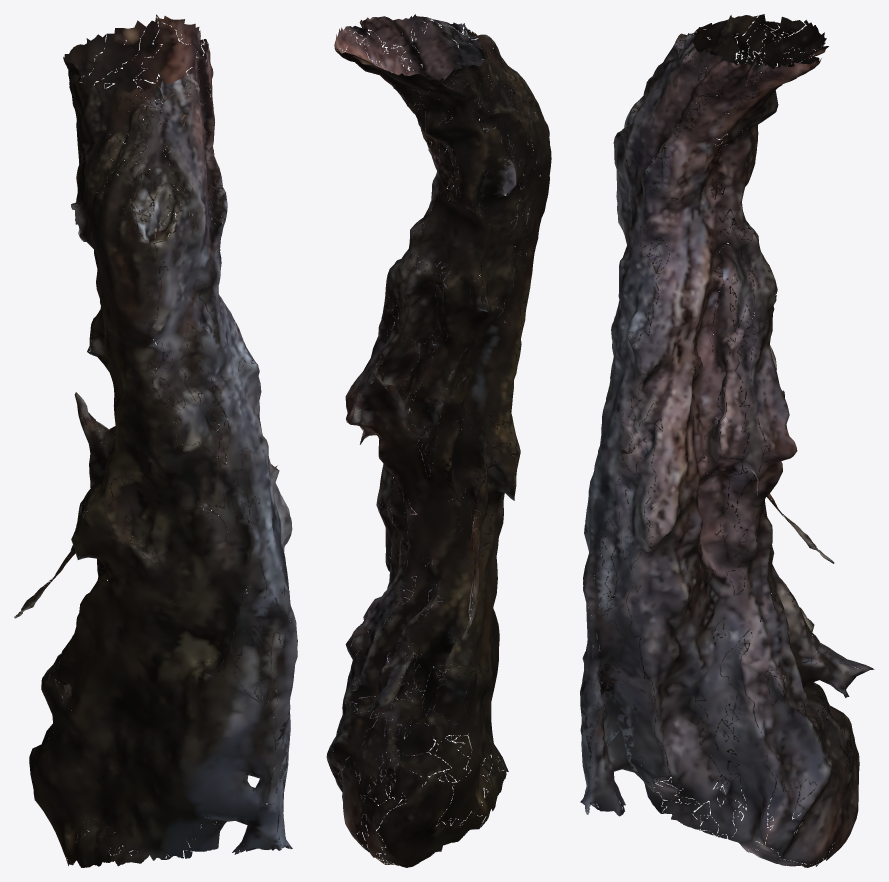
Rendered from Toke_1_bottom.obj.
The picture shows the model from 3 angles, left to right: view 1: azimuth 30°, elevation 25°; view 2: azimuth 150°, elevation 25°; view 3: azimuth 270°, elevation 25°; orthographic projection. The views are drawn at different scales.
Size of the model in its own units: 46.91 by 199 by 64.19.
1 material, 1 textured.
